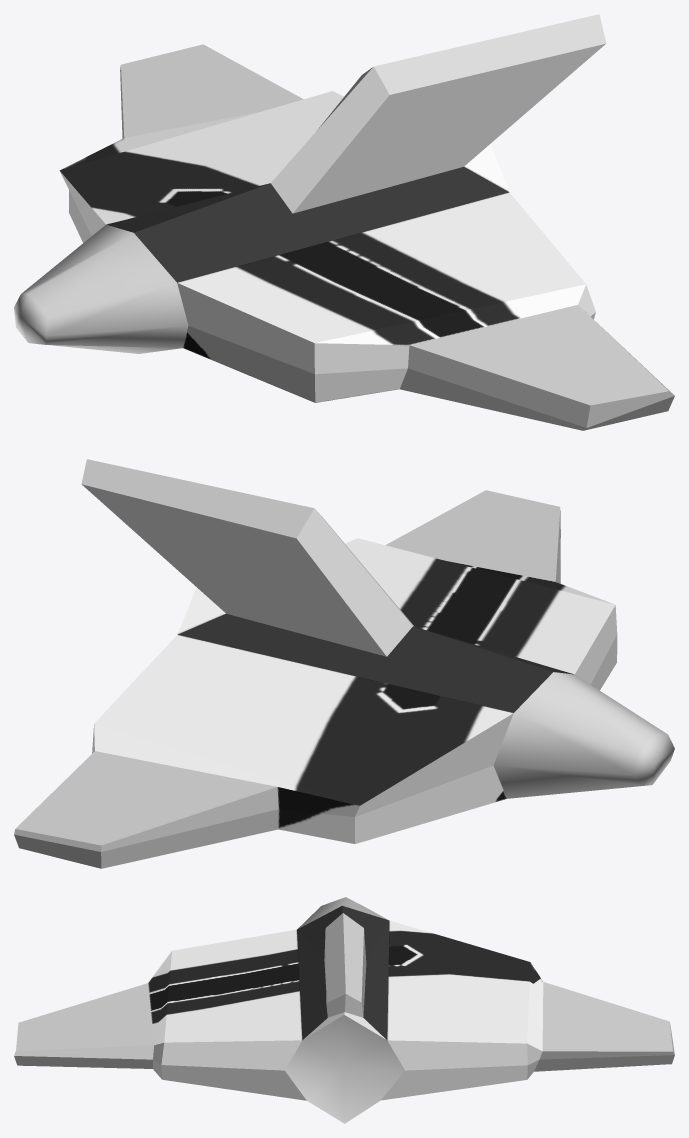
The model's file is Ship2.fbx.
3 renders of one model, top to bottom at view 1: azimuth 30°, elevation 25°; view 2: azimuth 150°, elevation 25°; view 3: azimuth 270°, elevation 25°, orthographic. The views are drawn at different scales.
Parts seen in each view (by area): view 1: LOW; view 2: LOW; view 3: LOW.
Boxes of the visible parts, x1,y1,x2,y2 form: LOW: [14, 14, 674, 430]; LOW: [14, 459, 674, 868]; LOW: [14, 897, 674, 1123].
Size of the model in its own units: 0.3086 by 0.1268 by 0.4389.
3 materials, 1 textured.
